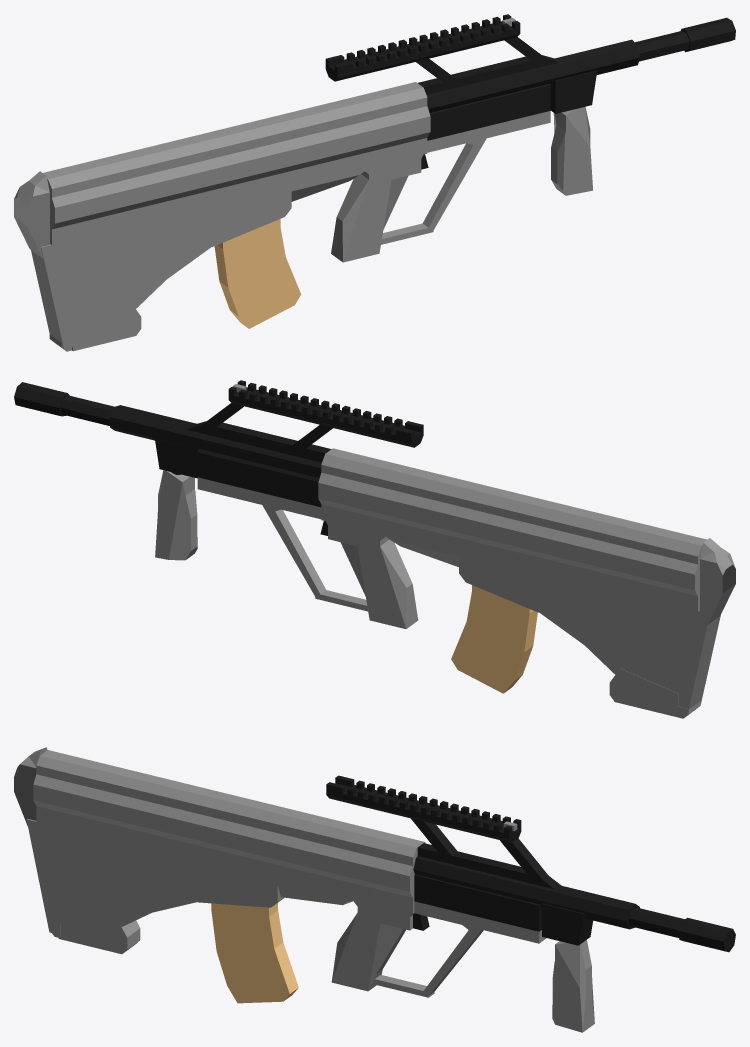
The model's file is aug.glb.
3 views of the same model, one above another, from view 1: azimuth 30°, elevation 25°; view 2: azimuth 150°, elevation 25°; view 3: azimuth 330°, elevation 25° (orthographic).
Parts seen in each view (by area): view 1: group787468052, group1170735151, group814575358, group1557247377, group1961715605, group720782931, group2029782710, group521884354, group1235677144, group734245013, group1897693342, group319369821 (+11 smaller); view 2: group787468052, group1170735151, group814575358, group1557247377, group720782931, group1961715605, group521884354, group2029782710, group1235677144, group734245013, group1897693342, group319369821 (+11 smaller); view 3: group787468052, group1170735151, group814575358, group1557247377, group1961715605, group720782931, group521884354, group1235677144, group2029782710, group734245013, group319369821, group216299371 (+13 smaller).
Part boxes in pixels (bbox=[...]): group787468052: bbox=[43, 82, 430, 244]; group1170735151: bbox=[214, 219, 301, 328]; group814575358: bbox=[121, 206, 211, 322]; group1557247377: bbox=[426, 39, 640, 112]; group1961715605: bbox=[75, 228, 120, 334]; group720782931: bbox=[331, 174, 408, 262]; group2029782710: bbox=[31, 239, 75, 349]; group521884354: bbox=[551, 106, 592, 195]; group1235677144: bbox=[212, 187, 291, 246]; group734245013: bbox=[325, 21, 520, 81]; group1897693342: bbox=[14, 171, 49, 258]; group319369821: bbox=[429, 83, 550, 131]; group787468052: bbox=[318, 448, 706, 611]; group1170735151: bbox=[451, 585, 537, 693]; group814575358: bbox=[539, 573, 630, 674]; group1557247377: bbox=[110, 405, 321, 477]; group720782931: bbox=[340, 539, 418, 628]; group1961715605: bbox=[630, 595, 675, 692]; group521884354: bbox=[155, 470, 197, 560]; group2029782710: bbox=[676, 606, 720, 709]; group1235677144: bbox=[459, 554, 538, 612]; group734245013: bbox=[228, 387, 423, 447]; group1897693342: bbox=[700, 538, 735, 625]; group319369821: bbox=[197, 448, 319, 498]; group787468052: bbox=[33, 750, 425, 913]; group1170735151: bbox=[211, 903, 298, 1003]; group814575358: bbox=[106, 839, 197, 934]; group1557247377: bbox=[413, 856, 639, 929]; group1961715605: bbox=[60, 828, 106, 934]; group720782931: bbox=[331, 912, 405, 991]; group521884354: bbox=[552, 940, 594, 1032]; group1235677144: bbox=[197, 861, 284, 907]; group2029782710: bbox=[26, 818, 60, 934]; group734245013: bbox=[326, 783, 521, 842]; group319369821: bbox=[414, 874, 541, 923]; group216299371: bbox=[414, 901, 546, 943].
Size of the model in its own units: 1.36 by 0.44 by 0.0715.
